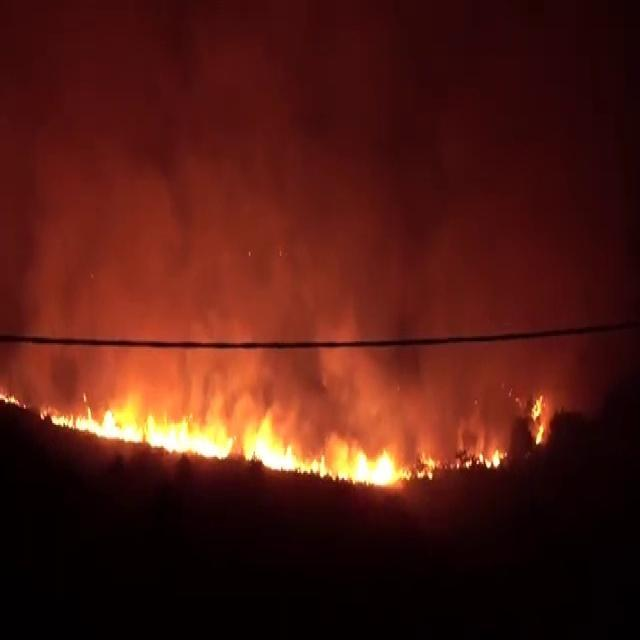Fire: (69, 388, 236, 464), (264, 426, 408, 498), (528, 388, 552, 452), (40, 403, 82, 436)
Smoke: (10, 0, 640, 362)
